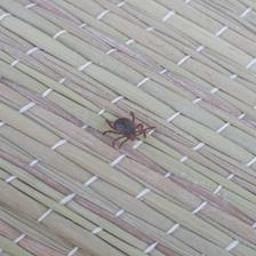Rhipicephalus sanguineus: (104, 110, 155, 150)
